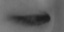LeftEyeFatigue: (4, 2, 55, 32)
